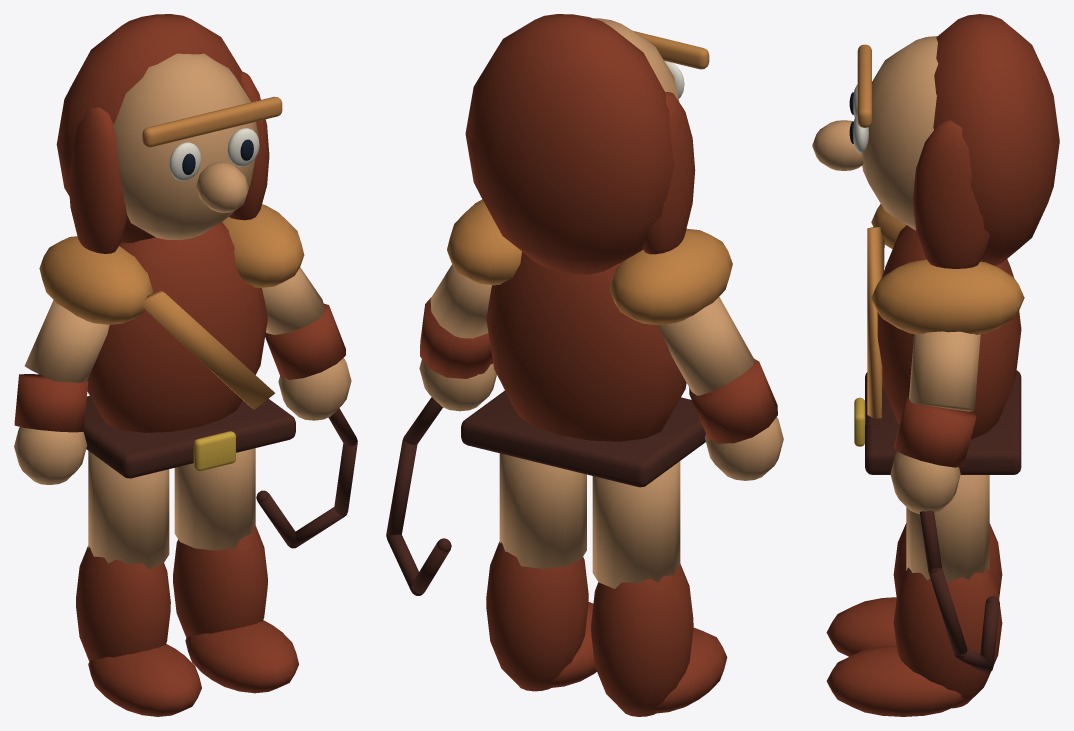
Rendered from wurstii-simon-belmont.glb.
The picture shows the model from 3 angles, left to right: view 1: azimuth 30°, elevation 25°; view 2: azimuth 150°, elevation 25°; view 3: azimuth 270°, elevation 25°; orthographic projection. The views are drawn at different scales.
Parts seen in each view (by area): view 1: wurstii-simon-belmont_geometry; view 2: wurstii-simon-belmont_geometry; view 3: wurstii-simon-belmont_geometry.
Part boxes in pixels (<box>): wurstii-simon-belmont_geometry: <box>14,14,357,716</box>; wurstii-simon-belmont_geometry: <box>386,14,783,716</box>; wurstii-simon-belmont_geometry: <box>812,14,1059,716</box>.
Size of the model in its own units: 0.493 by 0.88 by 0.2978.
